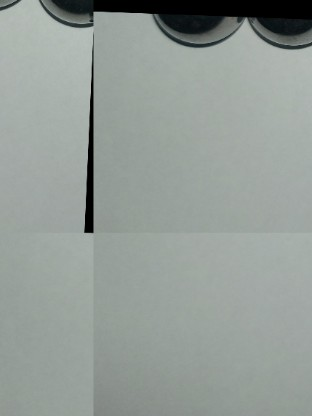ironball: (150, 11, 249, 41), (244, 10, 310, 52)
